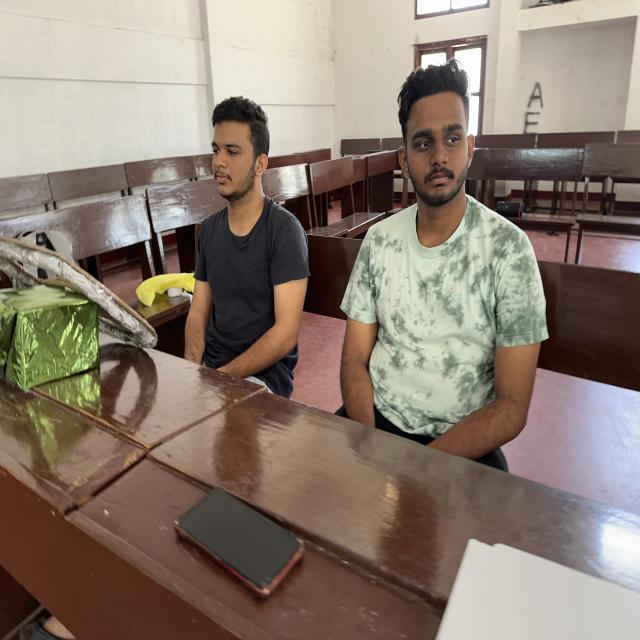Helmet: (342, 205, 552, 490), (182, 197, 306, 392)
